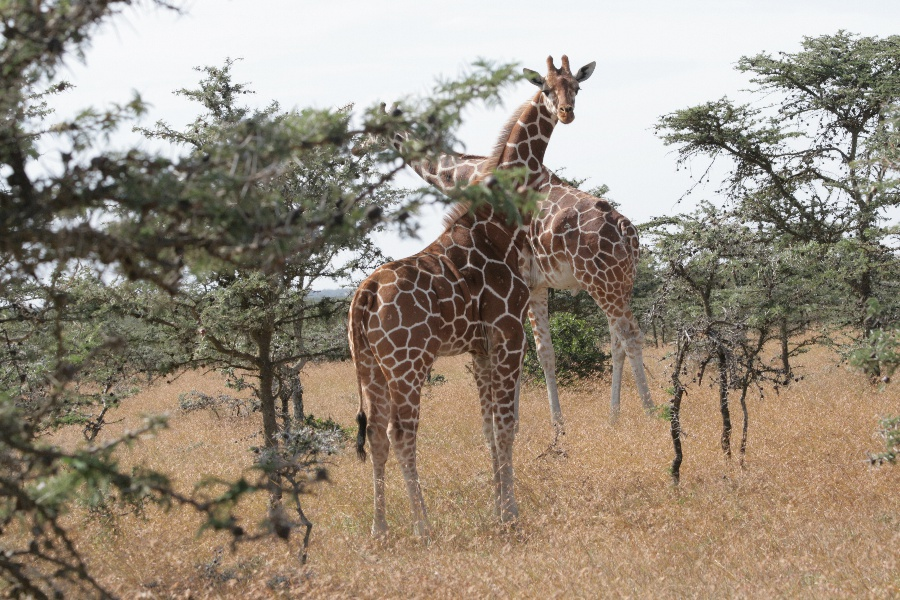giraffe: (360, 51, 594, 522), (521, 175, 650, 325)
